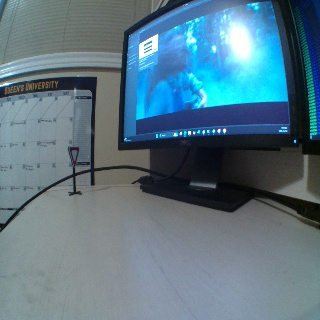sign_yield: (67, 144, 79, 167)
